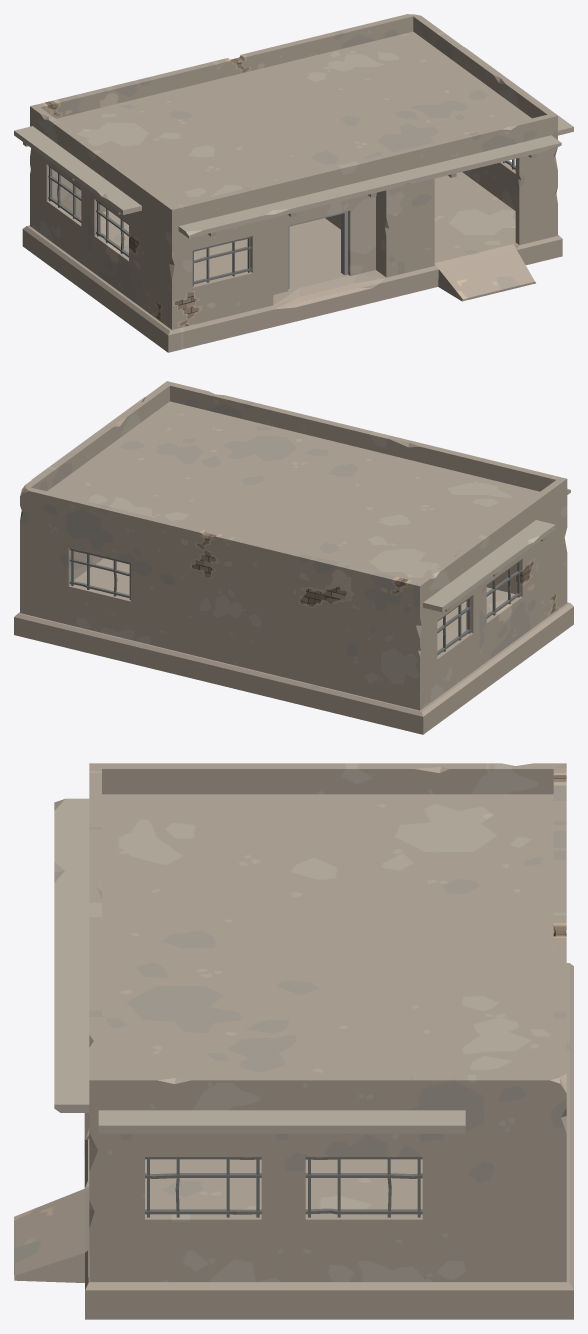
Rendered from SM_Bld_GasStation_01.glb.
3 views of the same model, one above another, from view 1: azimuth 30°, elevation 25°; view 2: azimuth 150°, elevation 25°; view 3: azimuth 270°, elevation 25° (orthographic). The views are drawn at different scales.
Visible parts, largest first — view 1: SM_Bld_GasStation_01; view 2: SM_Bld_GasStation_01; view 3: SM_Bld_GasStation_01.
Boxes of the visible parts, left/top/right/bottom form: SM_Bld_GasStation_01: left=14, top=14, right=573, bottom=352; SM_Bld_GasStation_01: left=14, top=381, right=573, bottom=734; SM_Bld_GasStation_01: left=14, top=763, right=573, bottom=1319.
Bounding box in the file's own units: 15.87 × 5.03 × 10.8.
Materials: 1 (1 with a texture image).
